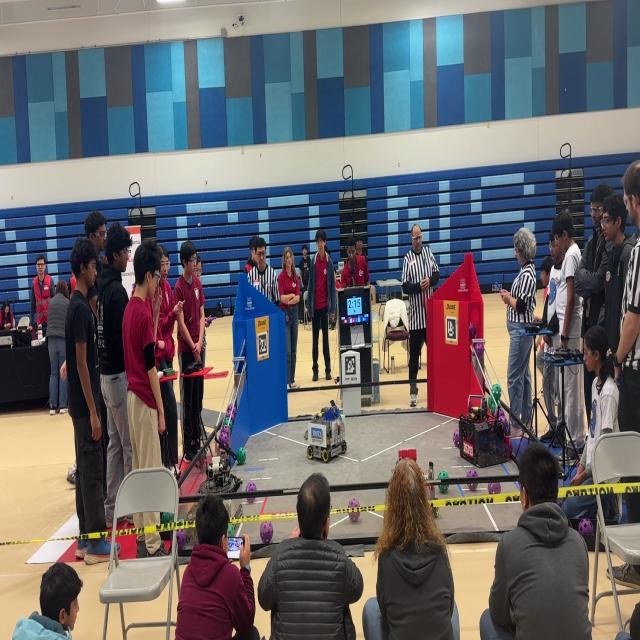artifact_green: (497, 408, 508, 433), (218, 429, 229, 447), (236, 447, 246, 465), (474, 343, 484, 359), (492, 383, 501, 400), (223, 418, 233, 433), (161, 512, 173, 524), (488, 396, 496, 414), (245, 481, 256, 493), (438, 471, 448, 480), (223, 417, 232, 427), (220, 425, 229, 434), (226, 404, 232, 417), (228, 524, 234, 537), (231, 406, 236, 420), (303, 429, 308, 441), (229, 421, 233, 433), (223, 500, 227, 508)
artifact_purple: (260, 521, 273, 543), (578, 519, 594, 536), (498, 409, 508, 431), (177, 530, 186, 549), (488, 482, 501, 494), (474, 343, 484, 358), (219, 431, 229, 446), (496, 406, 505, 421), (246, 481, 256, 493), (469, 323, 476, 339), (226, 403, 234, 417), (453, 430, 459, 447), (509, 438, 514, 458), (348, 498, 359, 507), (467, 469, 478, 478), (221, 425, 229, 435), (231, 405, 236, 420), (226, 405, 231, 417)
